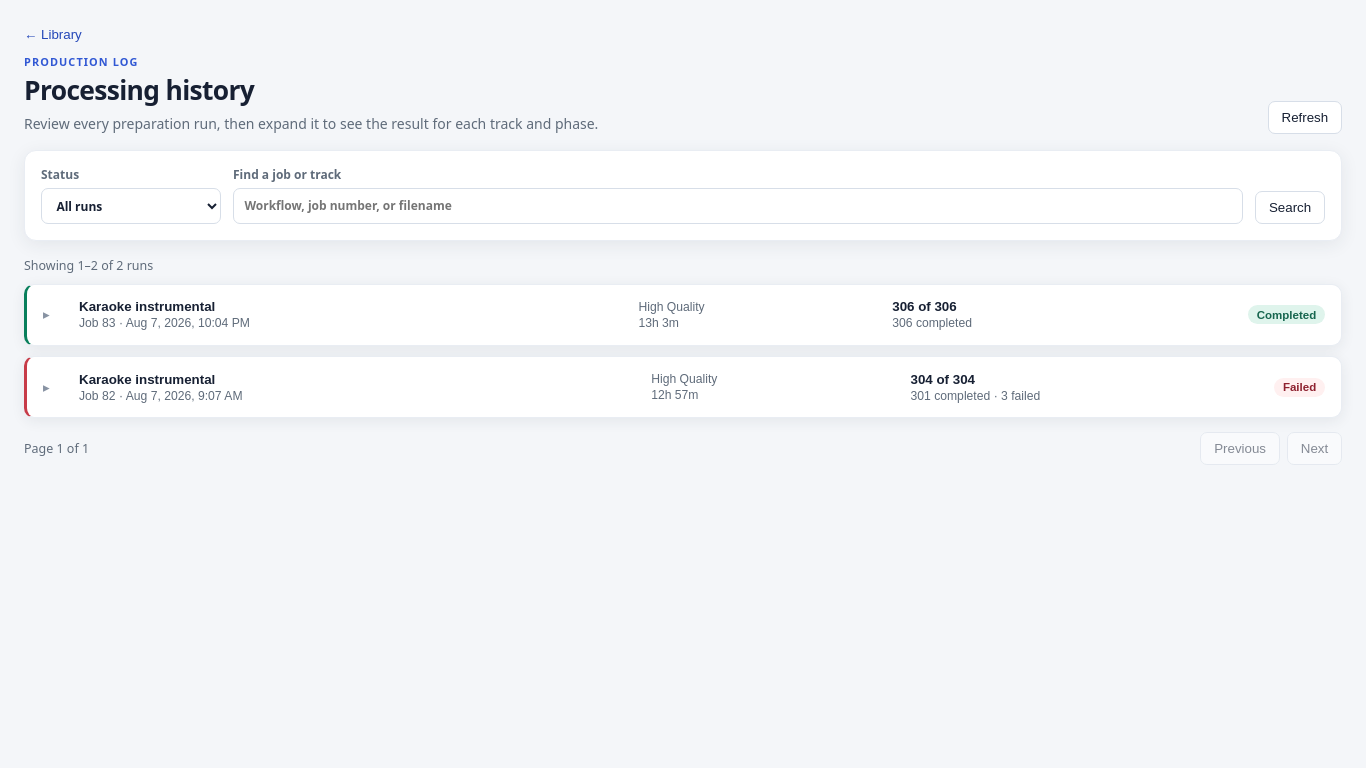
Test case: ProcessingHistory › loads track and phase details only when a run is expanded
Click the button "Job 82".
click(684, 387)  # box [27,357,1341,417]
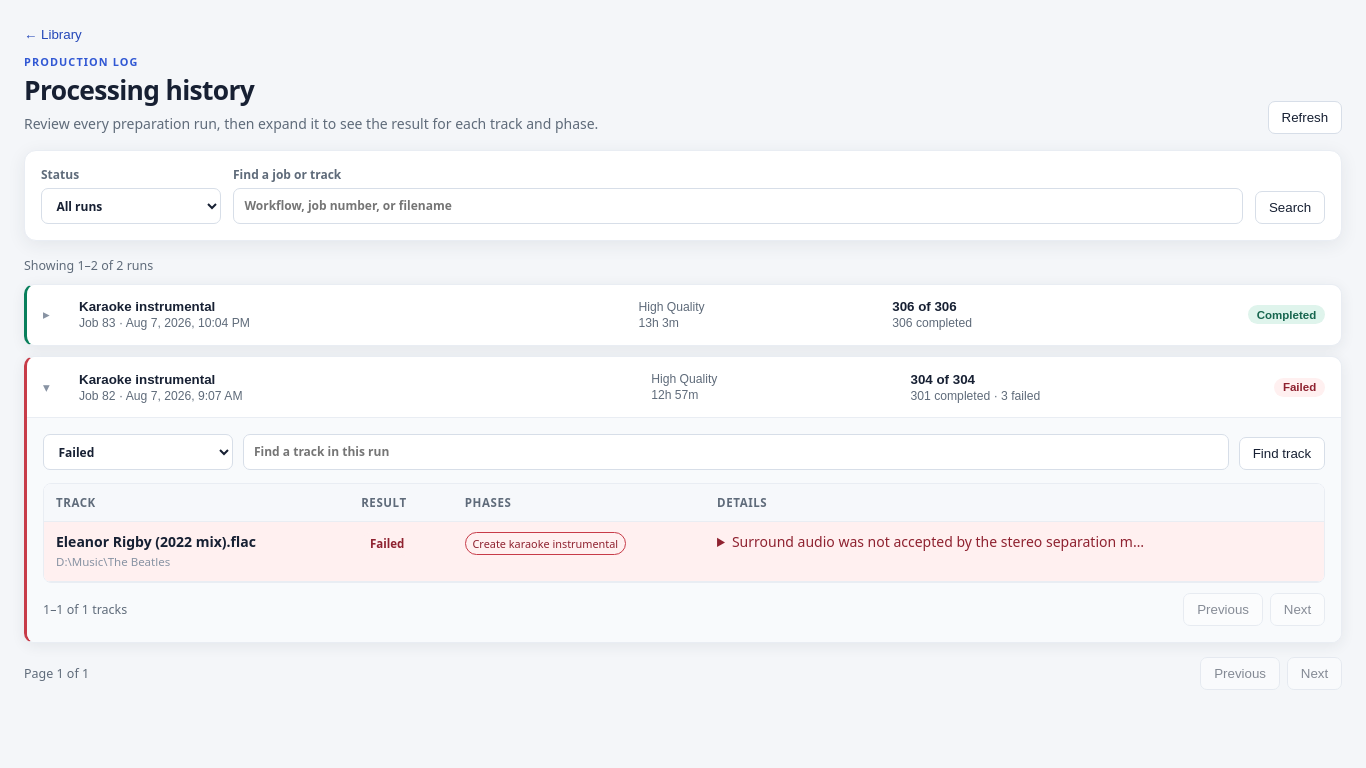
Expected: the text "Eleanor Rigby (2022 mix).flac" is shown, [56,532,256,551]
Expected: the text "Create karaoke instrumental" is shown, [465,532,626,555]
Expected: the heading "Surround audio was not accepted" is shown, [717,532,1147,552]
